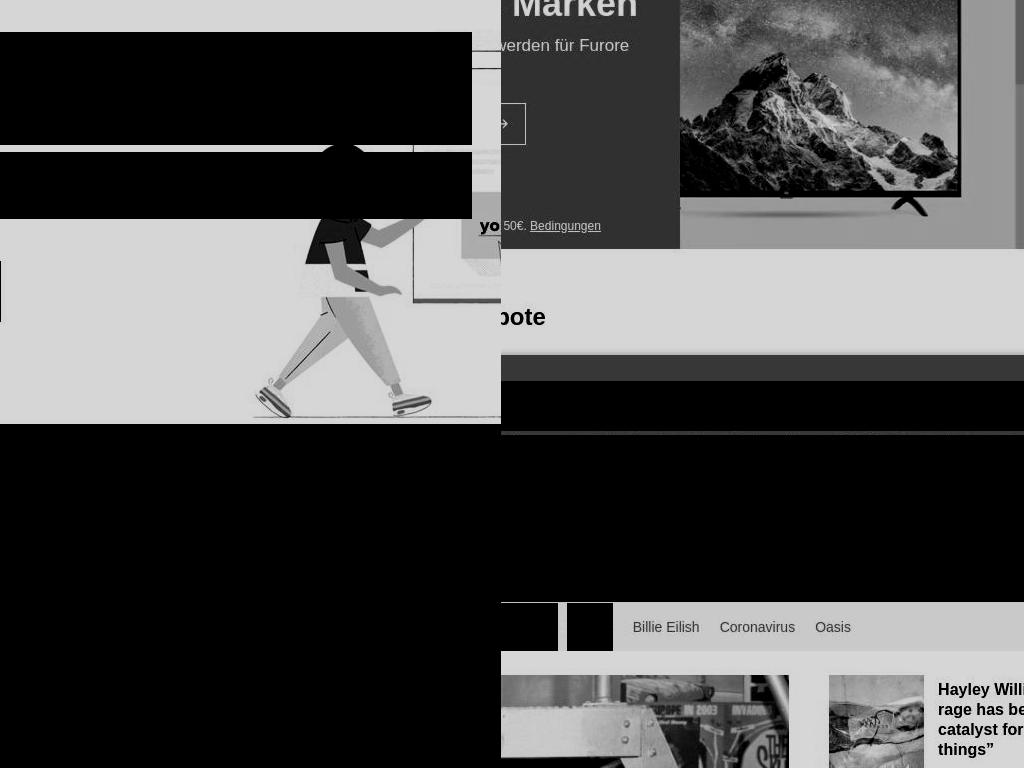button: (797, 482, 996, 546), (541, 357, 658, 445), (674, 357, 791, 445), (807, 357, 923, 445), (828, 675, 925, 768), (939, 357, 1024, 445), (526, 482, 631, 546), (709, 482, 798, 546), (630, 482, 710, 546), (709, 603, 806, 651), (622, 603, 710, 651), (557, 603, 623, 651), (501, 603, 558, 651), (805, 603, 861, 651), (501, 103, 552, 150), (995, 482, 1024, 546), (501, 482, 527, 546), (555, 219, 626, 233)
heading: (0, 32, 472, 145), (0, 152, 472, 219), (938, 680, 1024, 758), (501, 301, 546, 333)
image: (0, 445, 501, 768), (828, 675, 925, 768)
text: (501, 482, 1024, 602), (501, 381, 1024, 413), (501, 399, 1024, 431), (797, 482, 970, 546), (501, 462, 1024, 482), (501, 36, 654, 77), (526, 482, 605, 546), (709, 482, 772, 546), (719, 603, 796, 651), (630, 482, 684, 546), (632, 603, 700, 651), (501, 603, 548, 651), (567, 603, 613, 651), (995, 482, 1024, 546), (815, 603, 851, 651), (555, 219, 627, 233), (501, 219, 552, 233)
